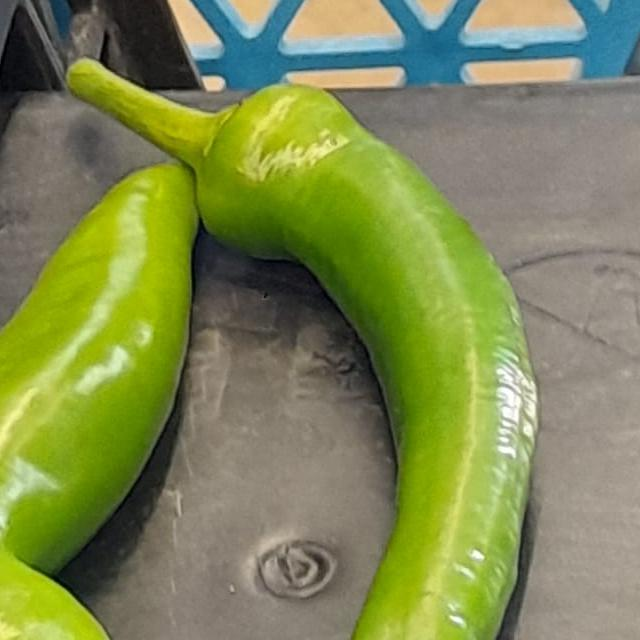chili_pepper: (116, 3, 553, 640), (0, 106, 276, 640)
